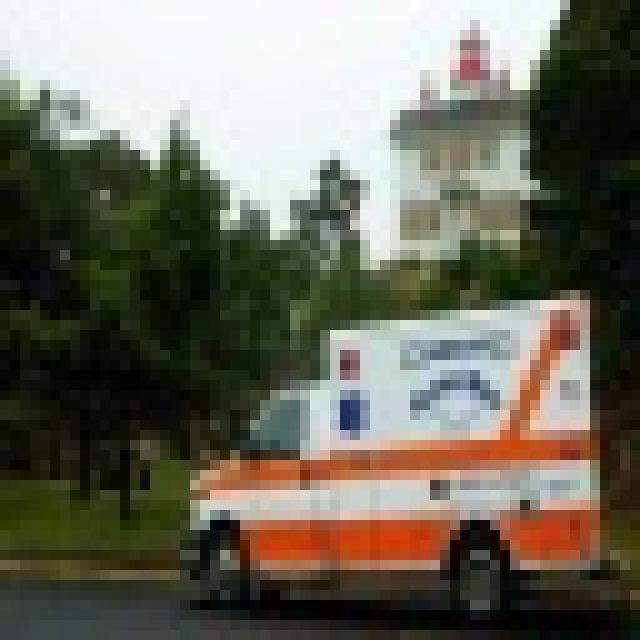Ambulance: (170, 280, 600, 620)
